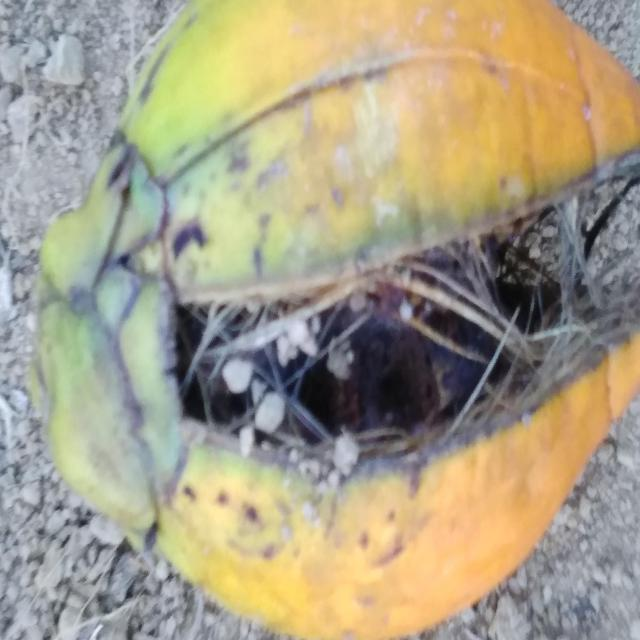damaged: (30, 0, 640, 640)
